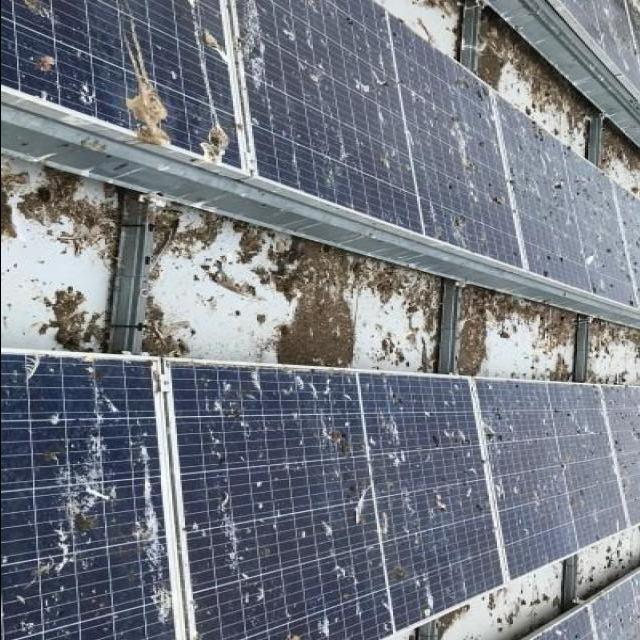soiled: (0, 8, 637, 310), (0, 370, 634, 640)
